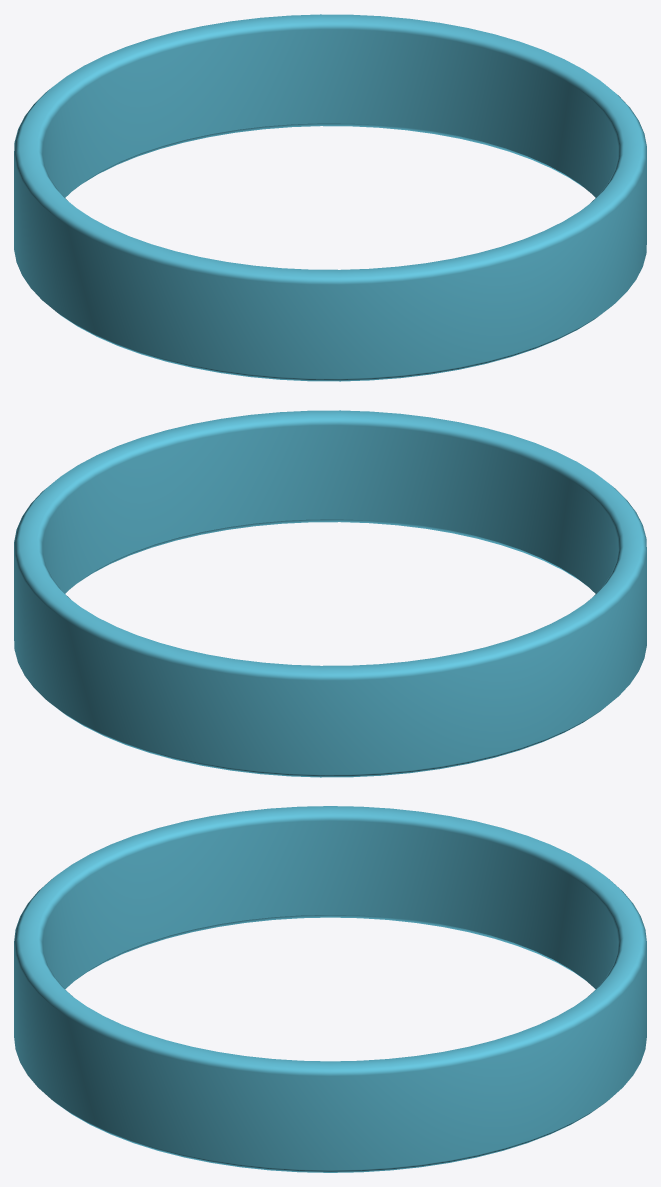
The picture shows the model from 3 angles, top to bottom: view 1: azimuth 30°, elevation 25°; view 2: azimuth 150°, elevation 25°; view 3: azimuth 270°, elevation 25°; orthographic projection.
Parts seen in each view (by area): view 1: seal_body; view 2: seal_body; view 3: seal_body.
Part boxes in pixels (<box>): seal_body: <box>14,14,646,381</box>; seal_body: <box>14,410,646,777</box>; seal_body: <box>14,806,646,1172</box>.
Size of the model in its own units: 0.0698 by 0.0127 by 0.0698.
